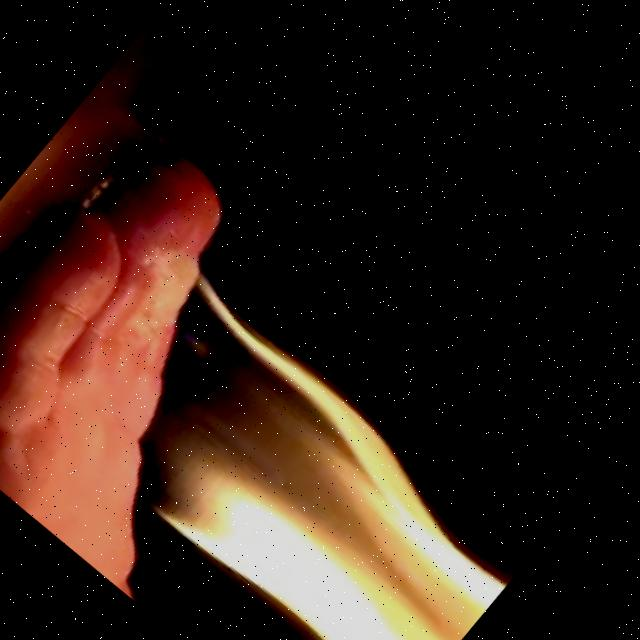Fire: (12, 234, 555, 640)
